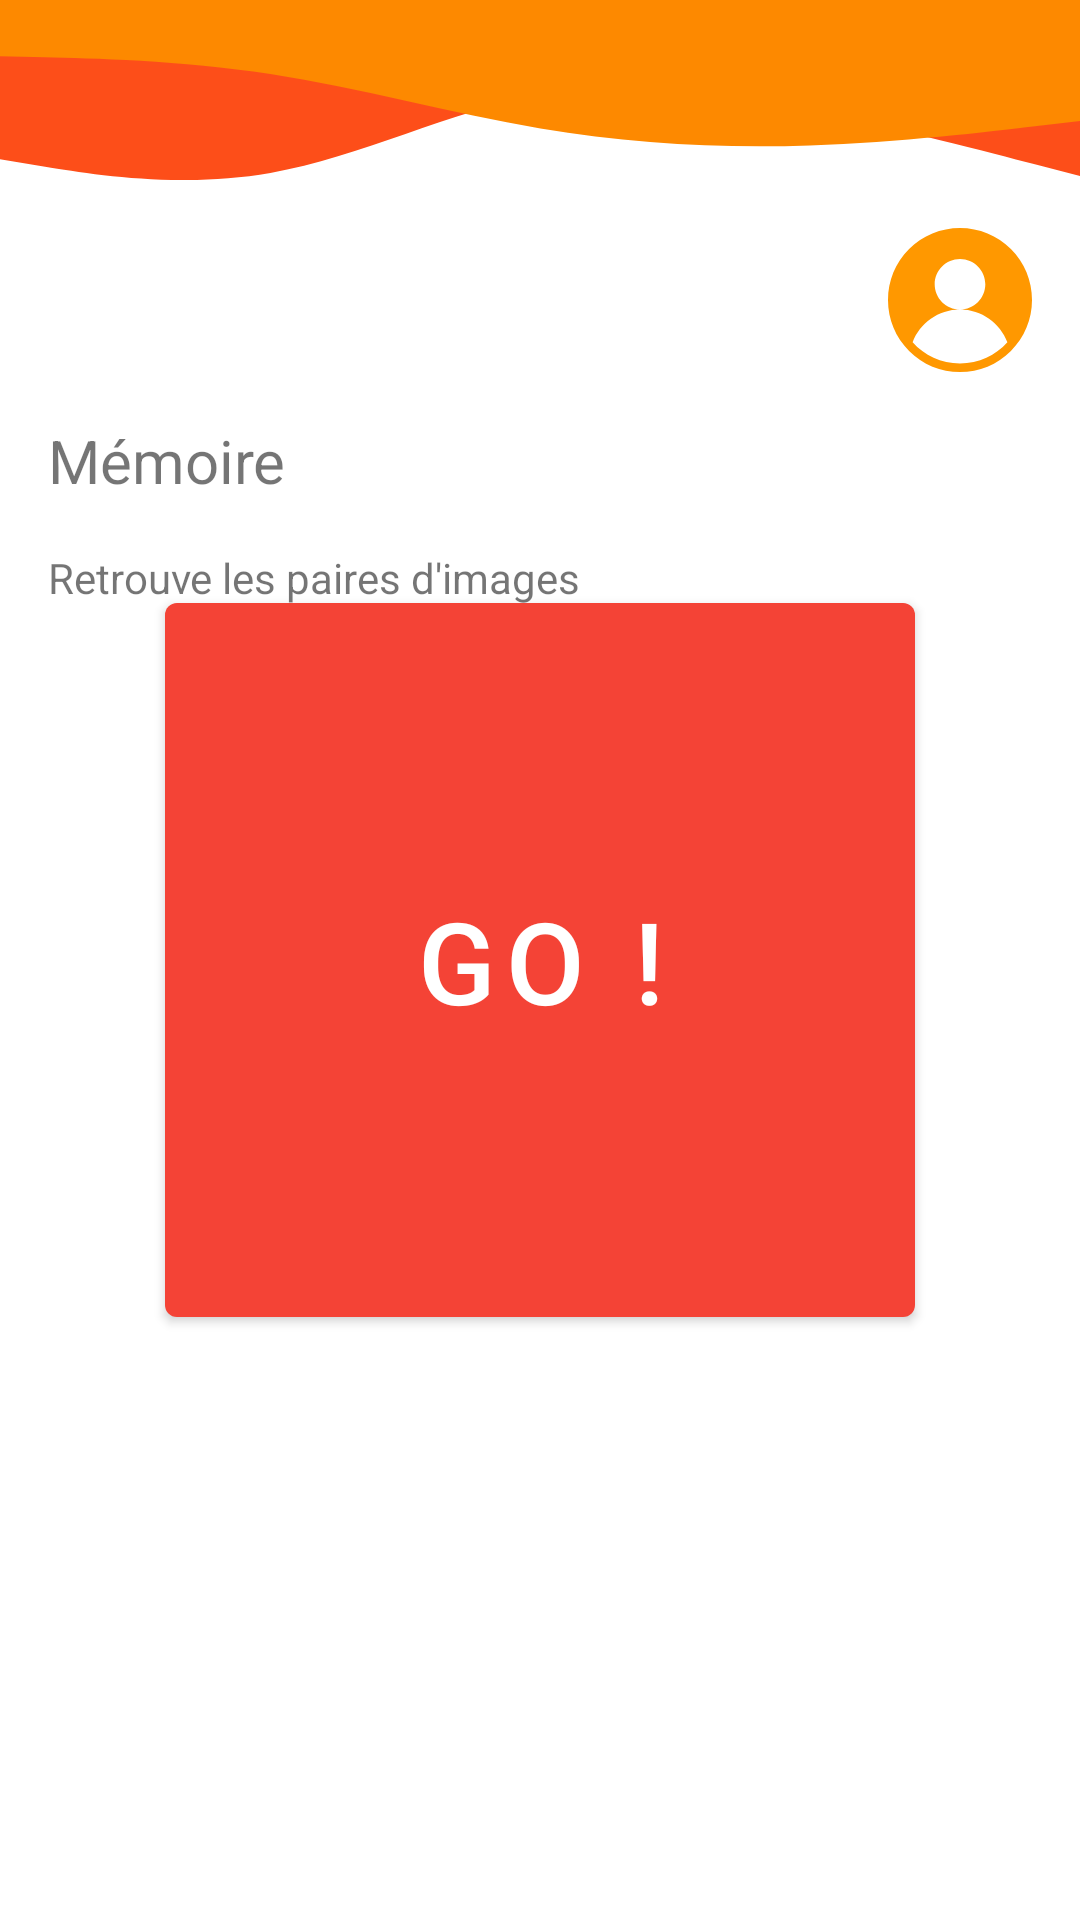

Named icons in this screenshot (1080 × 1920) and their bounding boxes, (x1, y1, x2, y2):
user: (888, 228, 1032, 372)
